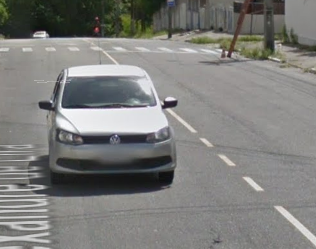car: (35, 36, 185, 191)
